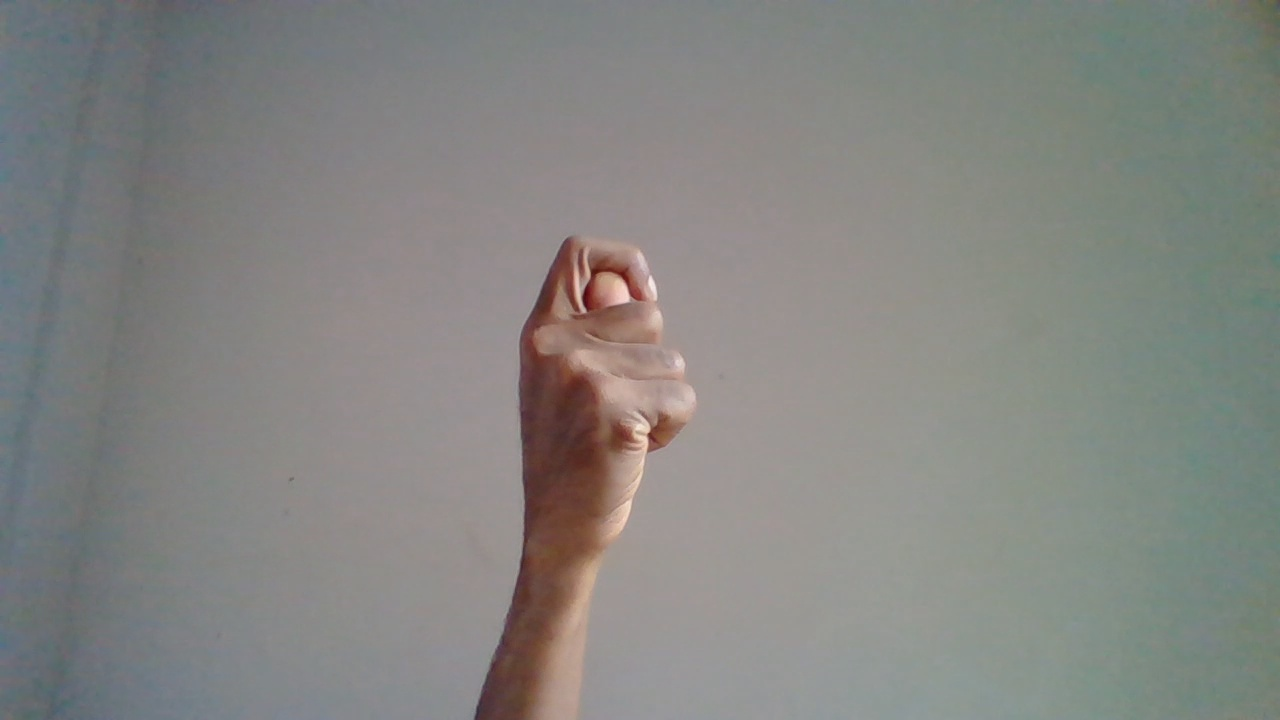che: (510, 233, 706, 697)
